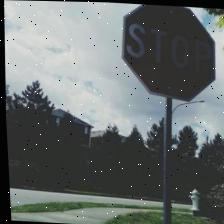Stop: (116, 2, 218, 102)
